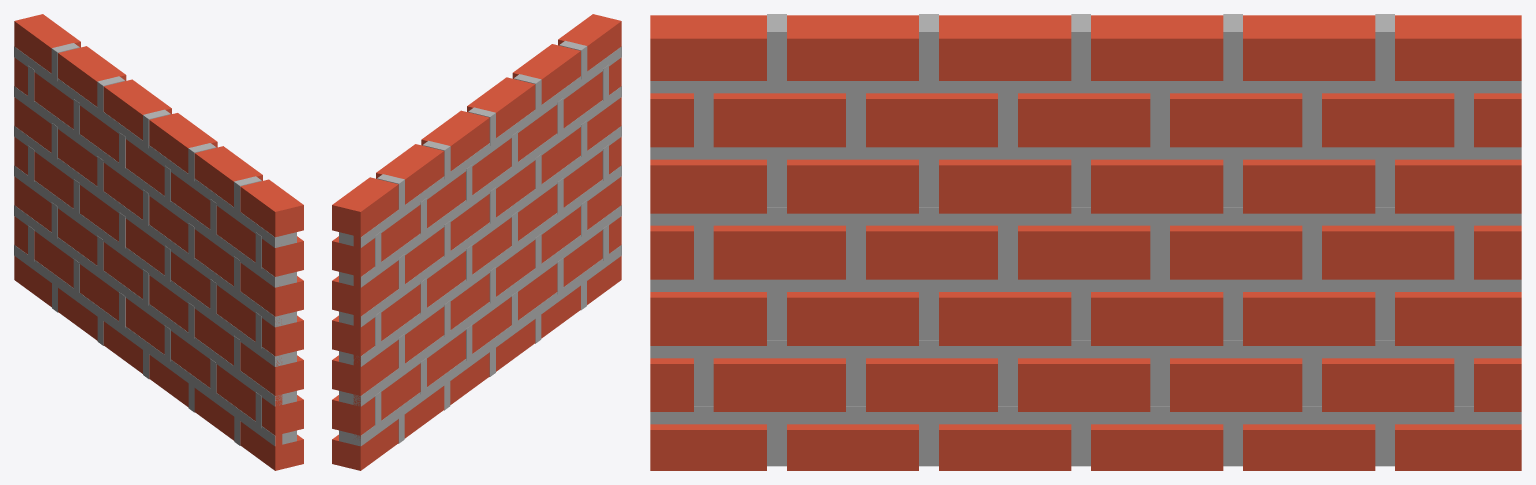
File: Muro.fbx
3 renders of one model, left to right at view 1: azimuth 30°, elevation 25°; view 2: azimuth 150°, elevation 25°; view 3: azimuth 270°, elevation 25°, orthographic. The views are drawn at different scales.
Parts seen in each view (by area): view 1: Cube, Cube.001, Cube.013, Cube.005, Cube.015, Cube.009, Cube.007, Cube.011, Cube.002; view 2: Cube, Cube.001, Cube.013, Cube.015, Cube.005, Cube.009, Cube.007, Cube.011, Cube.002; view 3: Cube, Cube.001, Cube.013, Cube.005, Cube.009, Cube.015, Cube.002, Cube.011, Cube.007.
Boxes of the visible parts, box(x1,y1,x2,y2) form: Cube: box(14, 14, 303, 470); Cube.001: box(14, 46, 296, 445); Cube.013: box(51, 43, 261, 214); Cube.005: box(28, 225, 261, 428); Cube.015: box(28, 65, 261, 268); Cube.009: box(28, 145, 261, 348); Cube.007: box(51, 202, 240, 371); Cube.011: box(51, 123, 240, 292); Cube.002: box(52, 283, 240, 445); Cube: box(332, 14, 621, 470); Cube.001: box(339, 46, 621, 446); Cube.013: box(377, 40, 587, 212); Cube.015: box(375, 65, 608, 267); Cube.005: box(375, 224, 608, 427); Cube.009: box(375, 145, 608, 347); Cube.007: box(398, 200, 587, 369); Cube.011: box(398, 121, 587, 289); Cube.002: box(398, 281, 586, 443); Cube: box(650, 15, 1521, 470); Cube.001: box(650, 75, 1521, 424); Cube.013: box(767, 14, 1394, 75); Cube.005: box(694, 358, 1473, 406); Cube.009: box(694, 225, 1473, 273); Cube.015: box(694, 93, 1473, 141); Cube.002: box(767, 413, 1394, 466); Cube.011: box(767, 159, 1394, 207); Cube.007: box(767, 292, 1394, 339).
Bounding box in the file's own units: 12.89 × 110 × 200.
